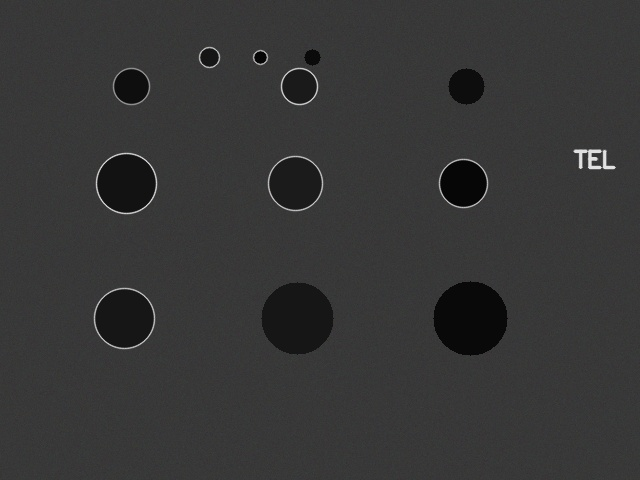hole: (433, 281, 507, 355), (261, 282, 333, 354), (96, 153, 156, 213), (94, 288, 154, 348), (268, 156, 322, 210), (439, 159, 487, 207), (113, 68, 149, 104), (281, 68, 317, 104), (448, 68, 484, 104), (199, 47, 219, 67), (304, 49, 320, 65), (253, 50, 267, 64)
